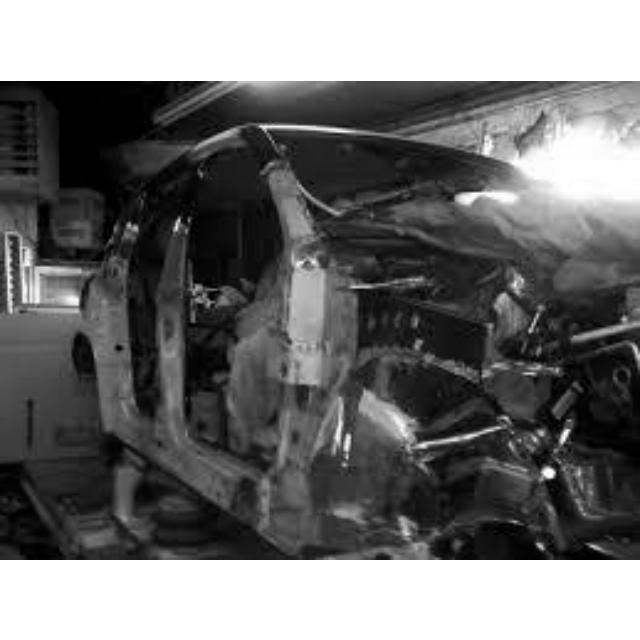Runningboard-Damage: (89, 412, 271, 468)
